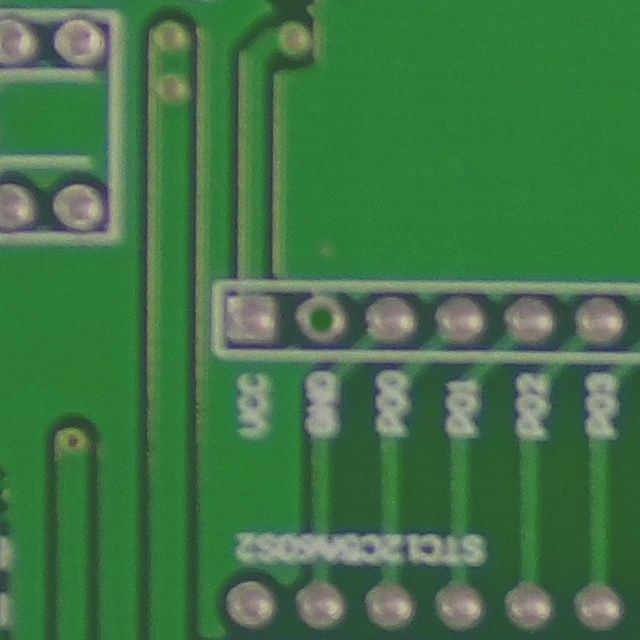missing_hole: (289, 285, 358, 352)
